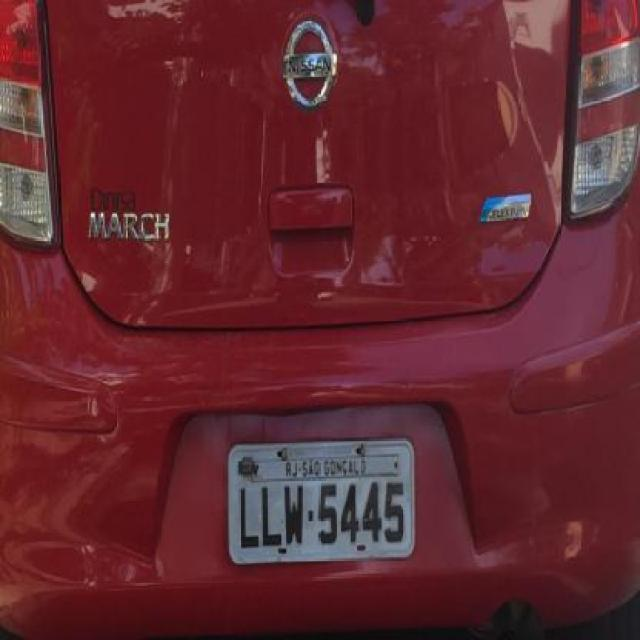old_plate: (221, 434, 423, 571)
